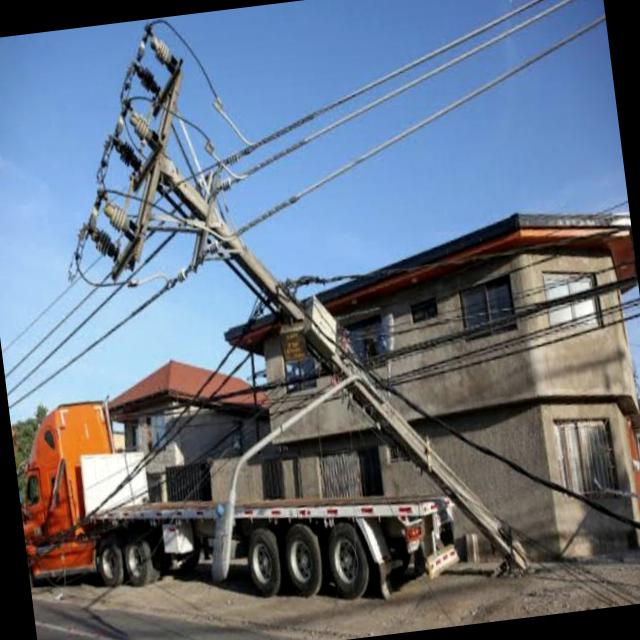Broken Pole: (78, 26, 530, 572)
